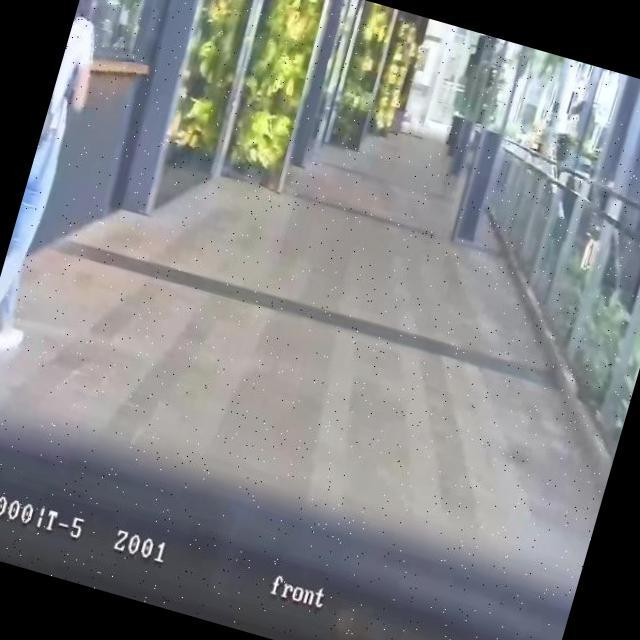person: (0, 0, 132, 377)
